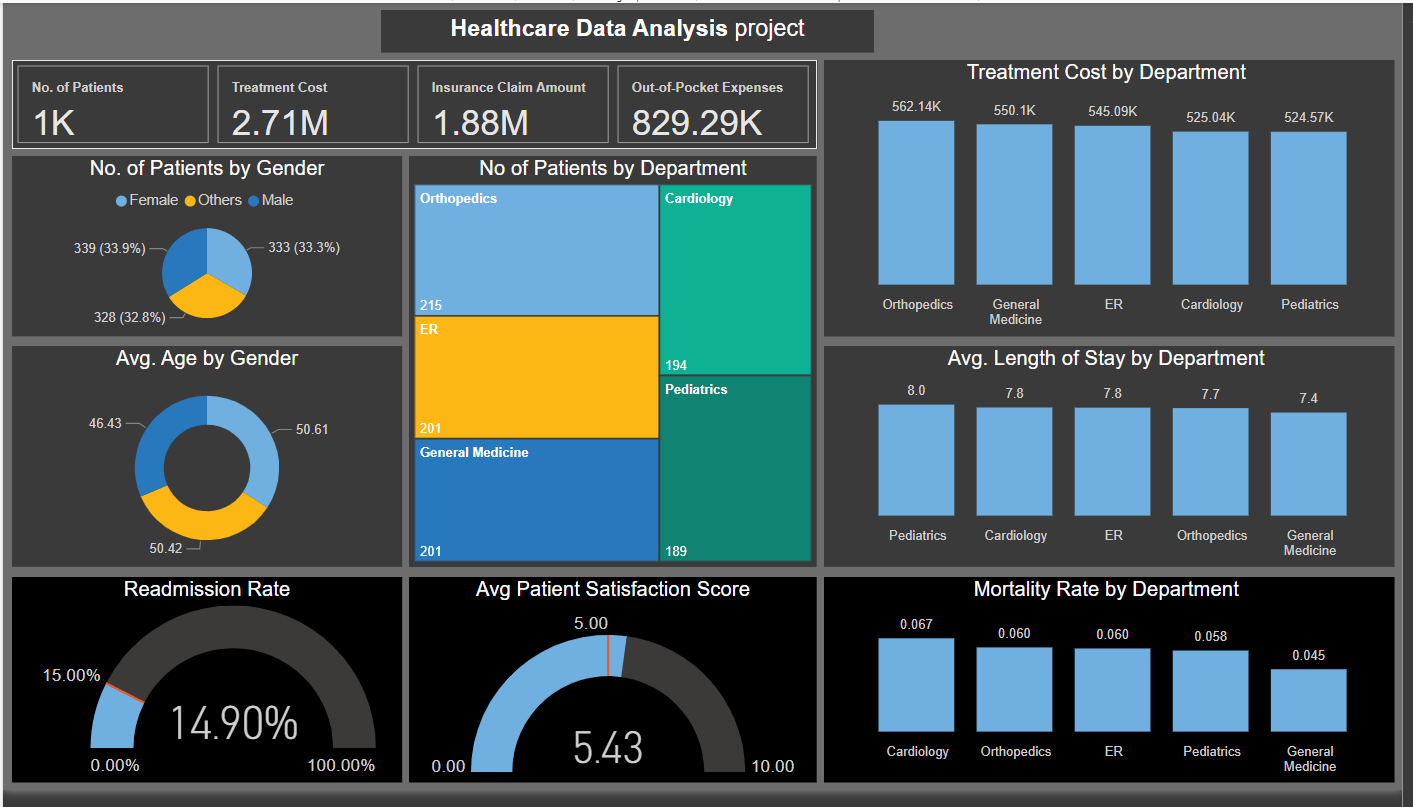

The page's visual inventory and layout, read from the dashboard file:
{"tool":"powerbi","page":{"name":"Page 1","canvas":[1280,720],"ordinal":0},"visuals":[{"type":"cardVisual","fields":{"Data":["healthcare_dataset.No_of_Patients","healthcare_dataset.Total Treatment Cost","healthcare_dataset.Total Insurance Claim Amount","healthcare_dataset.Total Out-of-Pocket Expenses"]},"box":[0,52.3,743.1,72.7],"z":0},{"type":"columnChart","title":"Avg. Length of Stay by Department","fields":{"Y":["healthcare_dataset.Average Length of Stay"],"Category":["healthcare_dataset.Department"]},"box":[751,309.4,522.3,202.2],"z":1000,"group":"g1"},{"type":"gauge","fields":{"Y":["healthcare_dataset.Readmission Rate"]},"box":[0,516.1,365.3,196.8],"z":2000},{"type":"columnChart","fields":{"Category":["healthcare_dataset.Department"],"Y":["healthcare_dataset.Mortality Rate"]},"box":[751,516,522.3,196.8],"z":3000,"group":"g1"},{"type":"gauge","title":"Avg Patient Satisfaction Score","fields":{"Y":["healthcare_dataset.Average Patient Satisfaction Score"]},"box":[371.5,516.1,371.5,196.8],"z":4000},{"type":"treemap","title":"No of Patients by Department","fields":{"Group":["healthcare_dataset.Department"],"Values":["healthcare_dataset.No_of_Patients"]},"box":[371.5,133.9,371.5,377.7],"z":5000},{"type":"columnChart","title":"Treatment Cost by Department","fields":{"Category":["healthcare_dataset.Department"],"Y":["healthcare_dataset.Total Treatment Cost"]},"box":[751,52.3,522.3,252.7],"z":6000,"group":"g1"},{"type":"donutChart","title":"Avg. Age by Gender","fields":{"Category":["healthcare_dataset.Gender"],"Y":["healthcare_dataset.Avg Patient Age"]},"box":[0,309.5,365.3,202.2],"z":7000},{"type":"pieChart","title":"No. of Patients by Gender","fields":{"Y":["healthcare_dataset.FemalePatients","healthcare_dataset.OtherGenderPatients","healthcare_dataset.MalePatients"]},"box":[0,133.9,365.3,171.1],"z":8000},{"type":"textbox","box":[353.8,6.2,451.3,39.9],"z":9000},{"type":"group","id":"g1","title":"Group 1","box":[751,52.3,522.3,660.6],"z":9001}]}

Visuals, with their boxes in screenshot pixels (x1, y1, x2, y2), scaled from the page's 1280x720 canvas onto the 1413x807 screenshot:
cardVisual - healthcare_dataset.No_of_Patients x healthcare_dataset.Total Treatment Cost: <box>0,59,820,140</box>
"Avg. Length of Stay by Department" columnChart: <box>829,347,1406,573</box>
gauge - healthcare_dataset.Readmission Rate: <box>0,578,403,799</box>
columnChart - healthcare_dataset.Department x healthcare_dataset.Mortality Rate: <box>829,578,1406,799</box>
"Avg Patient Satisfaction Score" gauge: <box>410,578,820,799</box>
"No of Patients by Department" treemap: <box>410,150,820,573</box>
"Treatment Cost by Department" columnChart: <box>829,59,1406,342</box>
"Avg. Age by Gender" donutChart: <box>0,347,403,574</box>
"No. of Patients by Gender" pieChart: <box>0,150,403,342</box>
textbox: <box>391,7,889,52</box>
"Group 1" group: <box>829,59,1406,799</box>
